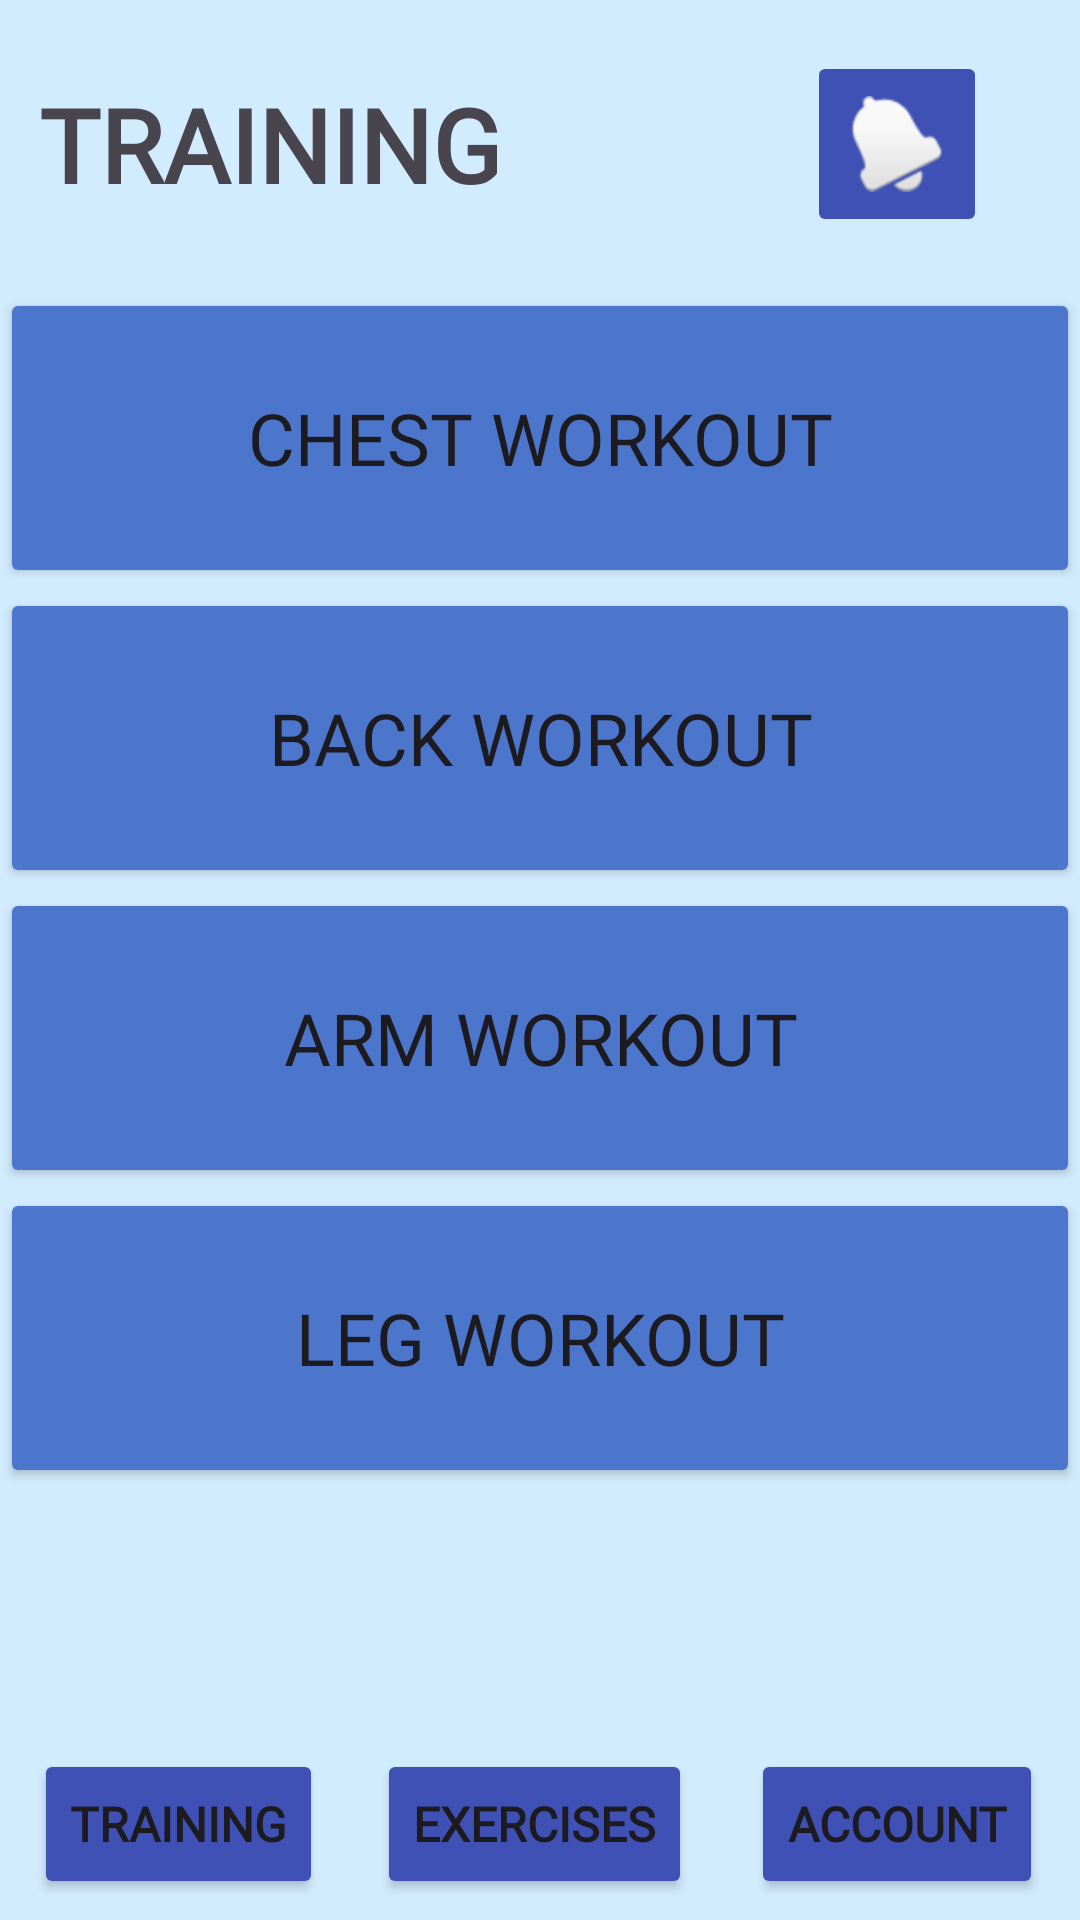

Icon click points for this 1080x1920 phone screenshot, format point (x, y):
popup reminder: point (897, 144)
